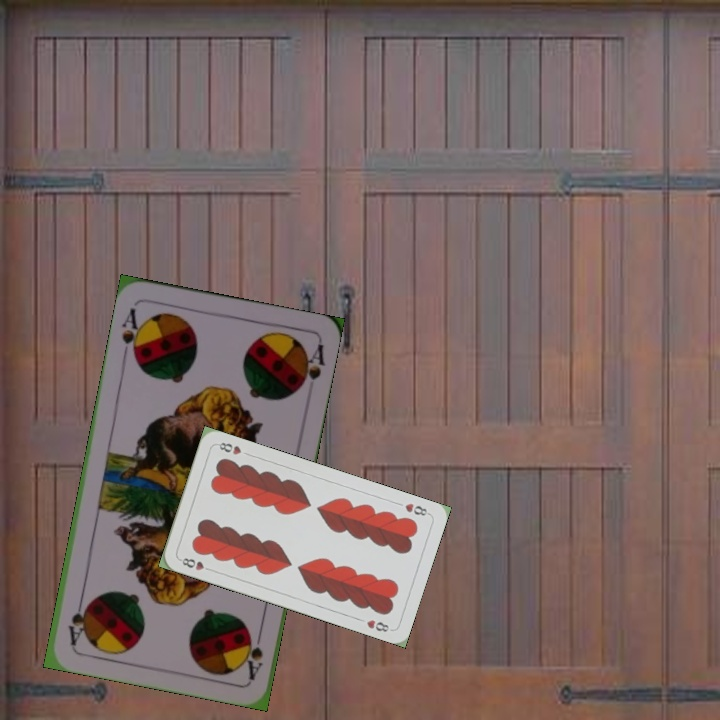H8: (176, 554, 215, 574), (401, 499, 432, 519)
SA: (117, 304, 146, 363), (240, 623, 266, 682)
